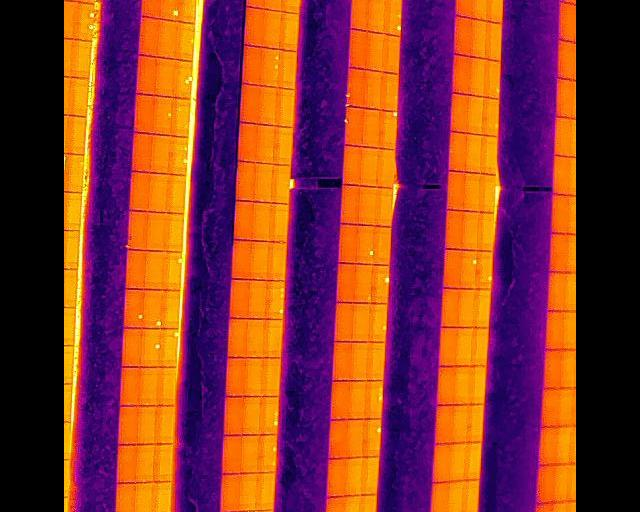Cell: (124, 288, 145, 327), (372, 263, 391, 302), (143, 328, 161, 367), (345, 106, 363, 145), (357, 224, 375, 263), (379, 110, 397, 149), (370, 303, 388, 341), (155, 95, 172, 134), (145, 289, 162, 328), (161, 327, 178, 366), (484, 59, 500, 98), (461, 250, 477, 288), (165, 251, 181, 289), (366, 418, 382, 455), (484, 97, 499, 136), (477, 250, 492, 288), (162, 0, 180, 21)
Cell-Multi: (74, 2, 94, 39), (169, 135, 187, 174), (260, 395, 278, 434), (261, 47, 279, 86), (347, 68, 365, 106), (267, 280, 285, 318), (259, 433, 276, 471), (385, 0, 403, 35), (366, 380, 382, 419), (175, 60, 191, 98)
No-Anomaly: (231, 239, 252, 279), (129, 171, 150, 210), (127, 209, 147, 249), (135, 93, 155, 133), (550, 233, 570, 272), (549, 271, 569, 310), (123, 327, 143, 366), (223, 395, 243, 434), (234, 200, 254, 239), (334, 302, 354, 341), (348, 28, 367, 69), (147, 211, 166, 251), (145, 250, 165, 288), (116, 444, 136, 482), (225, 357, 245, 395), (230, 279, 250, 317), (240, 83, 259, 123), (137, 404, 156, 443), (341, 184, 360, 223), (122, 366, 141, 405), (236, 161, 255, 200), (228, 317, 247, 356), (244, 7, 263, 46), (264, 318, 283, 357), (333, 341, 352, 380), (133, 133, 153, 170), (242, 47, 262, 84), (558, 77, 576, 118), (140, 367, 159, 405), (158, 20, 177, 58), (442, 249, 461, 287), (544, 349, 563, 387), (127, 250, 146, 288), (71, 40, 90, 78), (68, 77, 87, 115), (238, 123, 257, 161), (256, 471, 275, 509), (361, 146, 379, 186), (558, 40, 576, 80), (454, 13, 471, 55), (139, 56, 158, 93), (65, 153, 84, 190), (65, 116, 84, 153), (538, 464, 556, 503), (150, 172, 168, 211), (141, 17, 159, 56), (344, 456, 362, 495), (343, 145, 361, 184), (156, 404, 174, 443), (362, 107, 380, 146), (359, 185, 377, 224), (367, 341, 385, 380), (375, 187, 393, 226), (453, 55, 471, 94), (440, 287, 458, 326), (438, 326, 456, 365), (446, 171, 464, 210), (540, 425, 558, 464), (119, 404, 137, 443), (330, 418, 348, 457), (238, 471, 256, 510), (280, 11, 298, 50), (340, 223, 358, 262), (339, 262, 357, 301), (157, 56, 174, 97), (484, 21, 501, 62), (555, 116, 572, 157), (554, 154, 571, 195), (137, 444, 155, 482), (151, 134, 169, 172), (437, 365, 455, 403), (349, 418, 367, 456), (364, 70, 382, 108), (367, 32, 385, 70), (374, 226, 392, 264), (548, 311, 566, 349), (243, 396, 261, 434), (241, 434, 259, 472), (223, 434, 241, 472), (168, 174, 186, 212), (257, 124, 275, 162), (274, 126, 292, 164), (331, 381, 349, 419), (327, 456, 344, 496), (254, 200, 271, 240), (270, 240, 287, 280), (155, 444, 173, 481), (458, 287, 475, 326), (362, 455, 379, 494), (350, 379, 367, 418), (445, 210, 462, 249), (542, 386, 559, 425), (552, 194, 569, 233), (558, 425, 575, 464), (249, 279, 266, 318), (247, 318, 264, 357), (246, 357, 263, 396), (255, 162, 272, 201), (263, 8, 280, 47), (263, 357, 280, 396), (276, 87, 293, 126), (465, 440, 482, 478), (556, 463, 573, 501), (166, 212, 183, 250), (163, 289, 180, 327), (221, 473, 238, 511), (259, 86, 276, 124), (271, 203, 288, 241), (279, 49, 296, 87), (159, 366, 176, 404), (561, 0, 576, 43), (464, 171, 480, 211), (462, 210, 478, 250), (470, 18, 486, 58), (172, 96, 188, 136), (382, 72, 399, 109), (64, 192, 81, 229), (456, 326, 472, 365), (437, 403, 453, 442), (434, 442, 450, 481), (378, 148, 394, 187), (450, 441, 466, 480), (450, 132, 466, 171), (467, 95, 483, 134), (475, 287, 491, 326), (473, 326, 489, 365), (560, 387, 576, 426), (253, 240, 269, 279), (273, 163, 289, 202), (116, 481, 136, 512), (384, 35, 400, 73), (451, 93, 467, 131), (478, 212, 494, 250), (469, 365, 485, 403), (468, 403, 484, 440), (354, 302, 369, 341), (352, 341, 367, 380), (466, 132, 481, 171), (482, 135, 497, 174), (177, 21, 192, 60), (153, 480, 171, 512), (368, 0, 386, 32), (454, 365, 469, 403), (453, 403, 468, 441), (480, 173, 494, 213), (357, 263, 371, 302), (470, 56, 484, 95), (463, 478, 479, 512), (431, 481, 448, 512), (136, 481, 153, 512), (350, 0, 368, 28), (448, 480, 463, 512), (487, 0, 503, 22), (180, 0, 196, 22), (143, 0, 162, 18), (358, 494, 377, 512), (472, 0, 488, 19), (341, 495, 358, 512), (455, 0, 472, 16), (325, 496, 341, 512), (282, 0, 301, 12), (553, 502, 571, 512), (536, 502, 553, 512), (266, 0, 283, 10)
